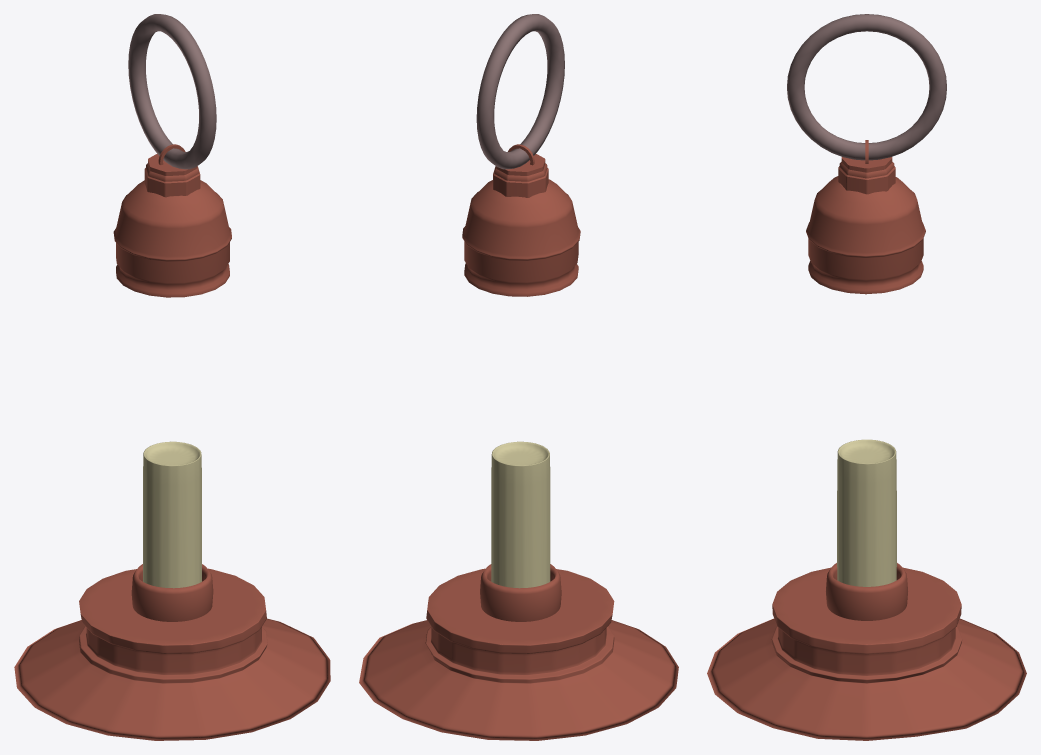
Rendered from lantern.obj.
3 views of the same model, side by side, from view 1: azimuth 30°, elevation 25°; view 2: azimuth 150°, elevation 25°; view 3: azimuth 270°, elevation 25° (orthographic).
Parts seen in each view (by area): view 1: bottom lantern, lantern top, lantern candle, lantern handle, lantern candleBase, lantern attachment; view 2: bottom lantern, lantern top, lantern candle, lantern handle, lantern candleBase, lantern attachment; view 3: bottom lantern, lantern top, lantern candle, lantern handle, lantern candleBase, lantern attachment.
Boxes of the visible parts, x1=… form: bottom lantern: x1=14, y1=568, x2=330, y2=740; lantern top: x1=113, y1=180, x2=231, y2=297; lantern candle: x1=143, y1=441, x2=201, y2=588; lantern handle: x1=128, y1=14, x2=216, y2=169; lantern candleBase: x1=131, y1=564, x2=213, y2=621; lantern attachment: x1=144, y1=153, x2=200, y2=197; bottom lantern: x1=359, y1=568, x2=678, y2=740; lantern top: x1=462, y1=179, x2=580, y2=296; lantern candle: x1=491, y1=441, x2=550, y2=588; lantern handle: x1=476, y1=14, x2=564, y2=169; lantern candleBase: x1=480, y1=564, x2=561, y2=621; lantern attachment: x1=493, y1=154, x2=548, y2=197; bottom lantern: x1=707, y1=567, x2=1026, y2=740; lantern top: x1=806, y1=176, x2=925, y2=294; lantern candle: x1=837, y1=439, x2=896, y2=586; lantern handle: x1=787, y1=14, x2=946, y2=160; lantern candleBase: x1=826, y1=563, x2=907, y2=620; lantern attachment: x1=838, y1=157, x2=895, y2=194.
Size of the model in its own units: 3.45 by 7.73 by 3.4.
